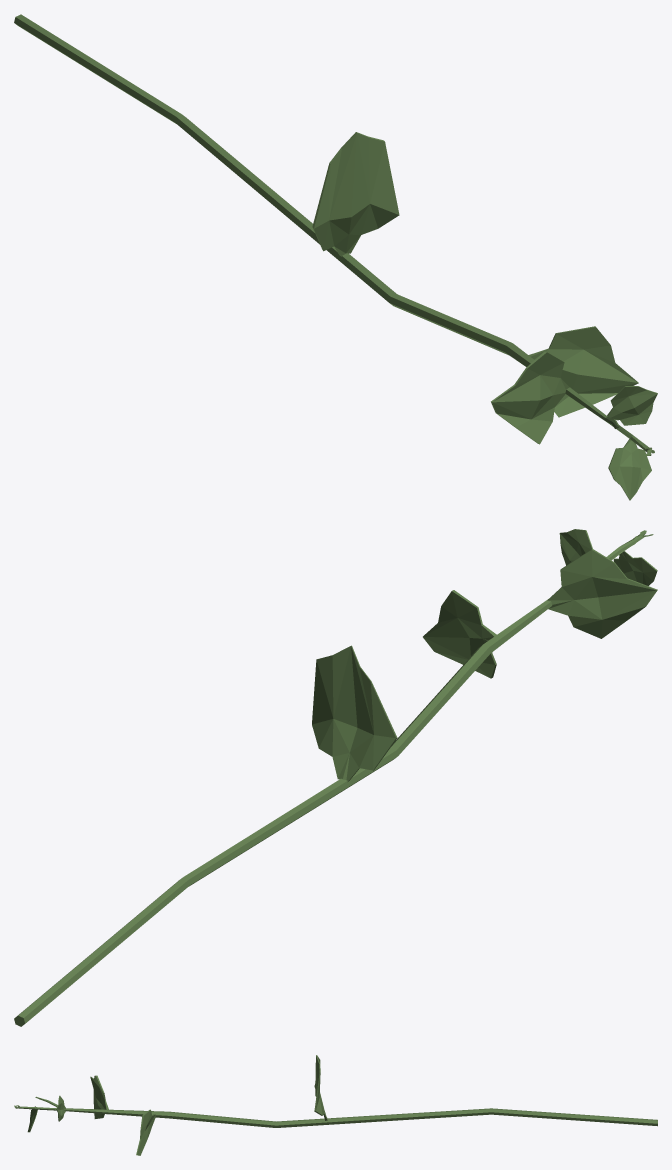
3 renders of one model, top to bottom at view 1: azimuth 30°, elevation 25°; view 2: azimuth 150°, elevation 25°; view 3: azimuth 270°, elevation 25°, orthographic. The views are drawn at different scales.
Parts seen in each view (by area): view 1: 冬葵_polySurface16; view 2: 冬葵_polySurface16; view 3: 冬葵_polySurface16.
Part boxes in pixels (x1,y1,x2,y2): 冬葵_polySurface16: (14,14,657,500); 冬葵_polySurface16: (14,529,657,1026); 冬葵_polySurface16: (14,1055,657,1155).
Size of the model in its own units: 7.11 by 5.86 by 40.52.
Materials: 1 (1 with a texture image).
